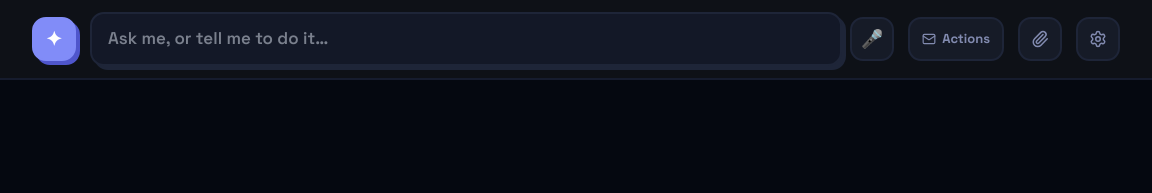
it: CopilotBar › labels the thread with the family-chosen copilot name
Click the field named "Ask the copilot". click: (466, 39)
box: [90, 12, 842, 66]
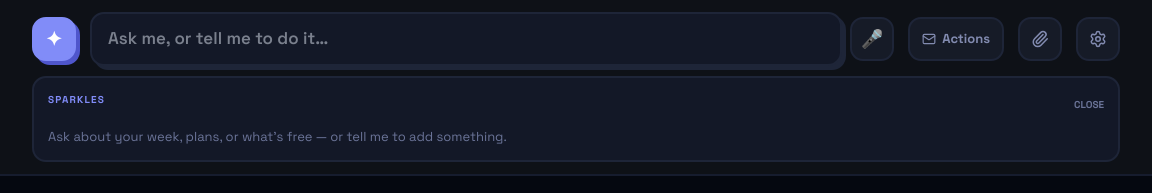
Result: the text "Sparkles" is shown at [48, 92, 105, 106]
